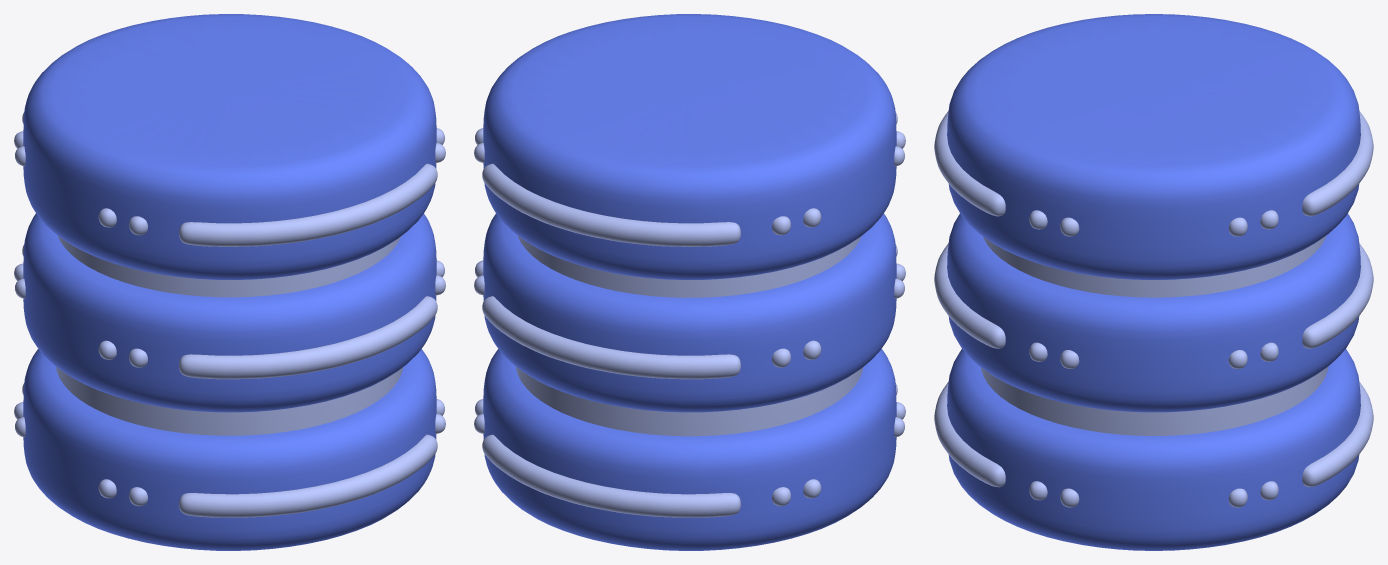
The model's file is Queryes.glb.
3 renders of one model, left to right at view 1: azimuth 30°, elevation 25°; view 2: azimuth 150°, elevation 25°; view 3: azimuth 270°, elevation 25°, orthographic.
Parts seen in each view (by area): view 1: Cylinder, Cylinder.008, Cylinder.005, Cylinder.009, Cylinder.004, Cylinder.001, Cylinder.007, Cylinder.002, Cylinder.006, Cylinder.003; view 2: Cylinder, Cylinder.008, Cylinder.005, Cylinder.009, Cylinder.004, Cylinder.001, Cylinder.007, Cylinder.002, Cylinder.006, Cylinder.003; view 3: Cylinder, Cylinder.008, Cylinder.005, Cylinder.009, Cylinder.004, Cylinder.001, Cylinder.007, Cylinder.006, Cylinder.003, Cylinder.002.
Boxes of the visible parts, <box> form: Cylinder: <box>23,14,436,279</box>; Cylinder.008: <box>23,349,436,550</box>; Cylinder.005: <box>23,213,436,412</box>; Cylinder.009: <box>56,236,403,435</box>; Cylinder.004: <box>22,244,437,379</box>; Cylinder.001: <box>22,112,437,246</box>; Cylinder.007: <box>22,383,437,517</box>; Cylinder.002: <box>14,260,445,367</box>; Cylinder.006: <box>14,399,445,506</box>; Cylinder.003: <box>14,128,445,235</box>; Cylinder: <box>483,14,896,279</box>; Cylinder.008: <box>483,349,896,550</box>; Cylinder.005: <box>483,213,896,412</box>; Cylinder.009: <box>516,236,863,436</box>; Cylinder.004: <box>482,244,897,379</box>; Cylinder.001: <box>482,112,897,246</box>; Cylinder.007: <box>482,383,897,517</box>; Cylinder.002: <box>474,260,905,367</box>; Cylinder.006: <box>474,399,905,506</box>; Cylinder.003: <box>474,128,905,235</box>; Cylinder: <box>947,14,1360,279</box>; Cylinder.008: <box>947,349,1360,550</box>; Cylinder.005: <box>947,213,1360,412</box>; Cylinder.009: <box>981,235,1328,435</box>; Cylinder.004: <box>934,243,1373,348</box>; Cylinder.001: <box>934,111,1373,216</box>; Cylinder.007: <box>934,382,1373,487</box>; Cylinder.006: <box>1029,481,1278,507</box>; Cylinder.003: <box>1029,210,1278,236</box>; Cylinder.002: <box>1029,342,1278,368</box>.
Size of the model in its own units: 1.22 by 1.25 by 1.29.
